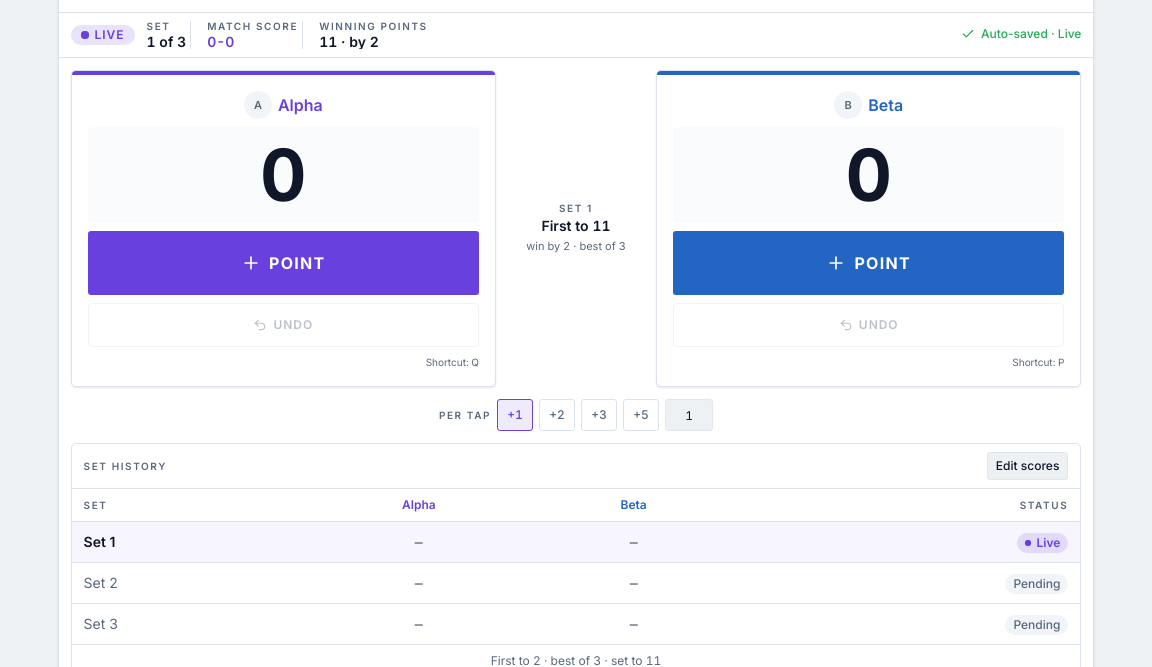
it: MatchConsolePage › tap scoring: +/- moves points by the chosen step and auto-saves live
The width and height of the screenshot is (1152, 667).
Click the button with test id "edit-scores" at (1028, 466), box [987, 452, 1068, 480]
(page scrolled)
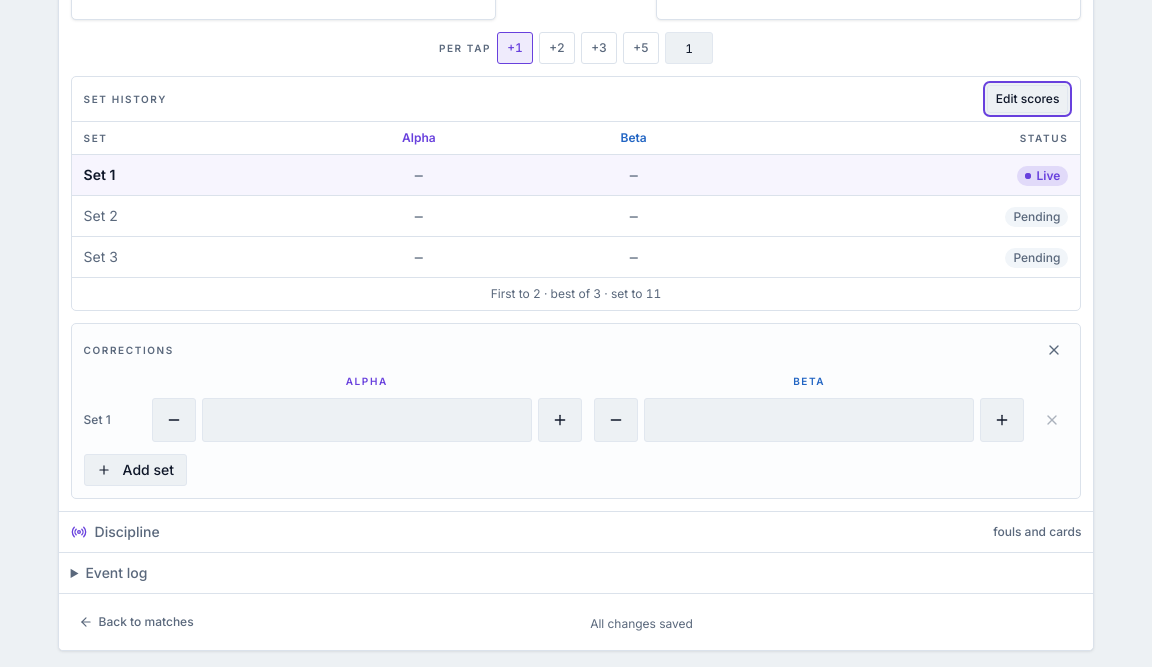
Click the button with test id "set-0-home-plus" at (560, 420), box [538, 398, 582, 442]
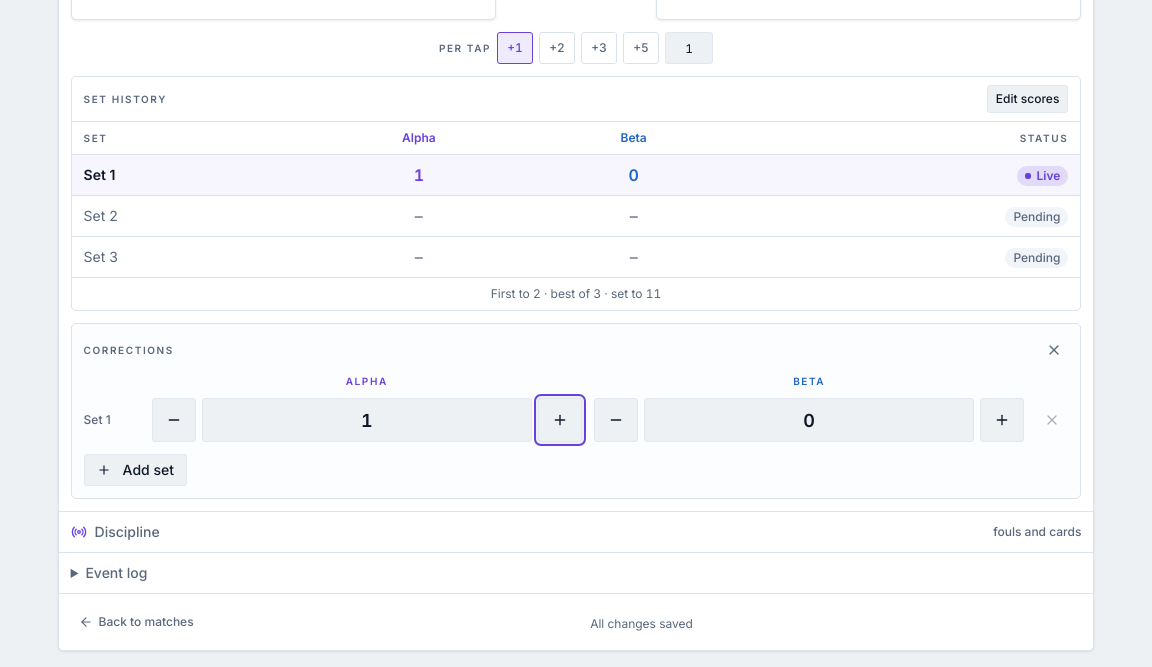
Expected: the field named "Set 1 Alpha" holds "1", [202, 398, 532, 442]
Click the button with test id "tap-step-5" at (641, 48), box [623, 32, 659, 64]
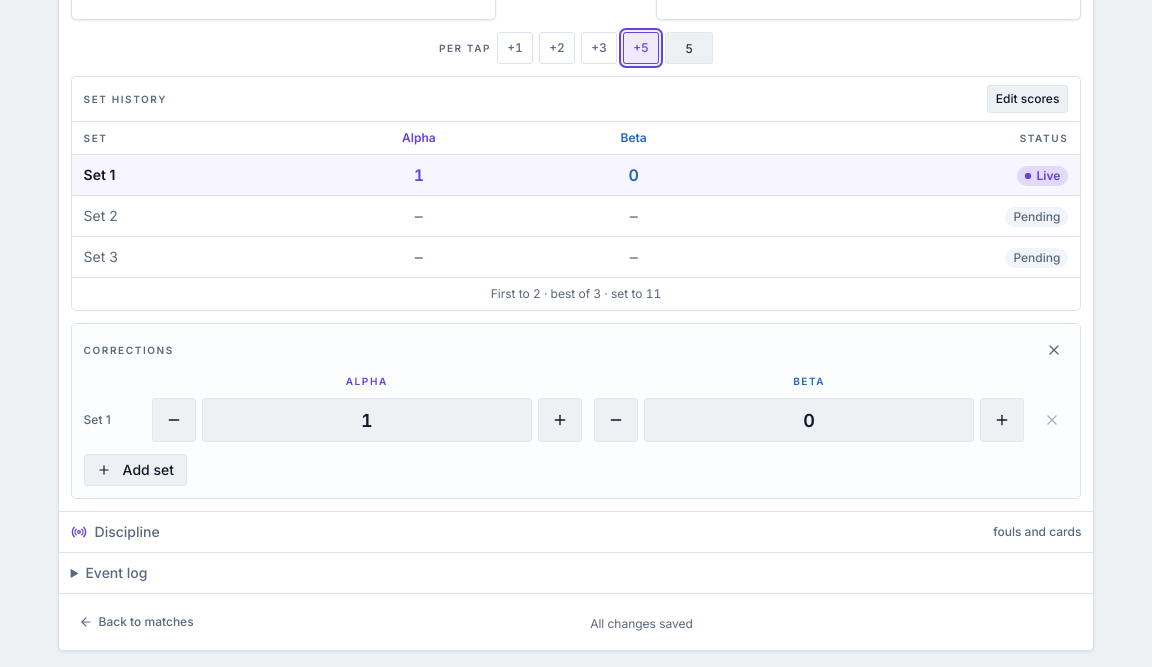
Click the button with test id "set-0-home-plus" at (560, 420), box [538, 398, 582, 442]
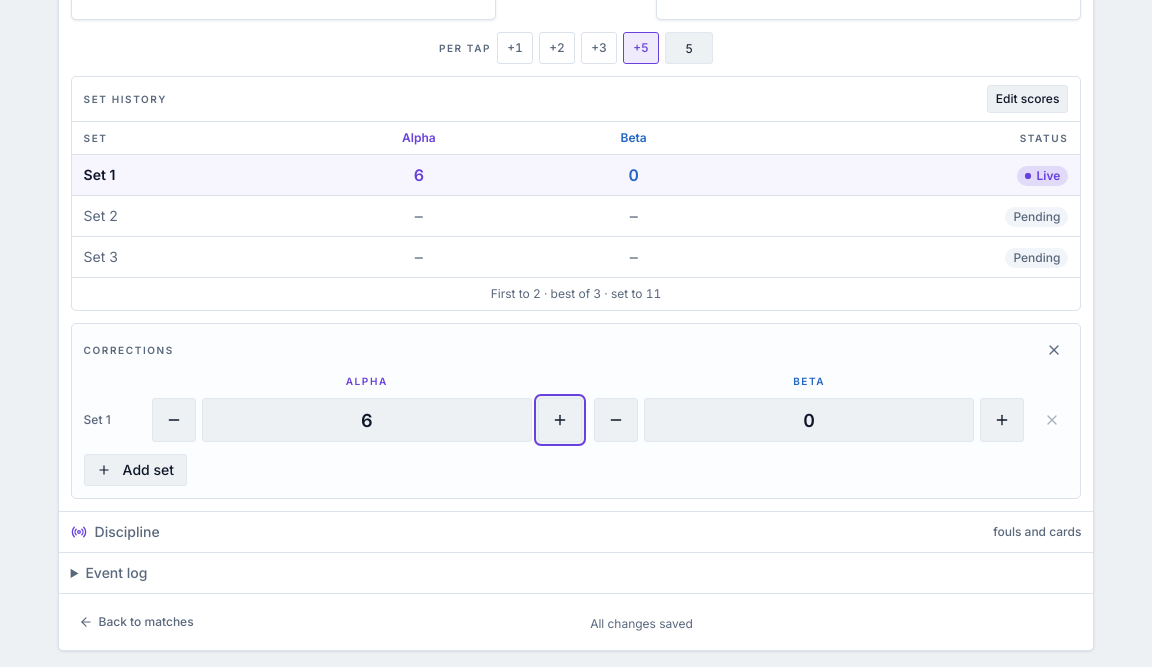
Expected: the field named "Set 1 Alpha" holds "6", [202, 398, 532, 442]
Click the button with test id "set-0-home-minus" at (174, 420), box [152, 398, 196, 442]
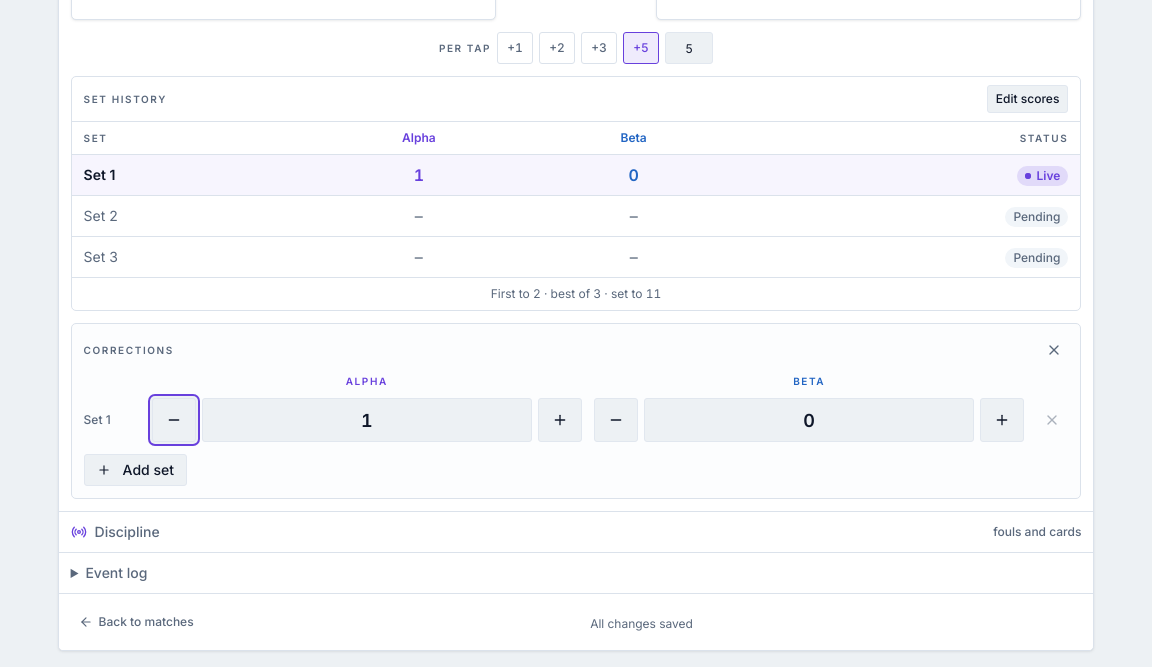
Expected: the field named "Set 1 Alpha" holds "1", [202, 398, 532, 442]
